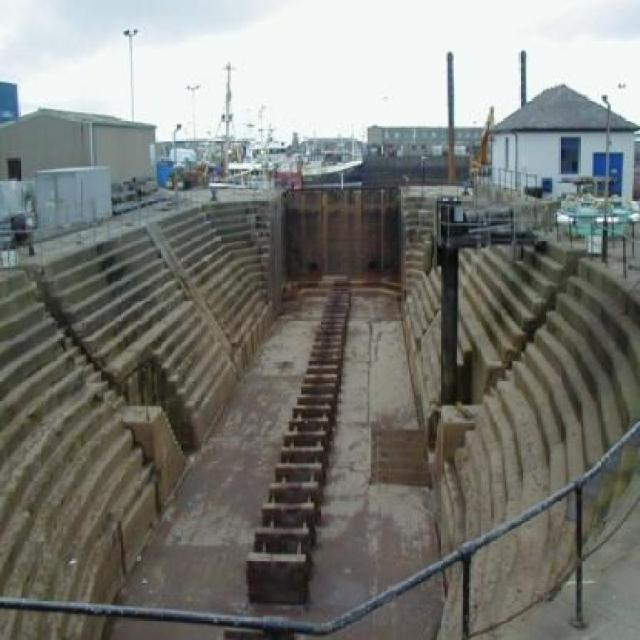stair: (0, 197, 277, 640), (397, 186, 640, 640)
